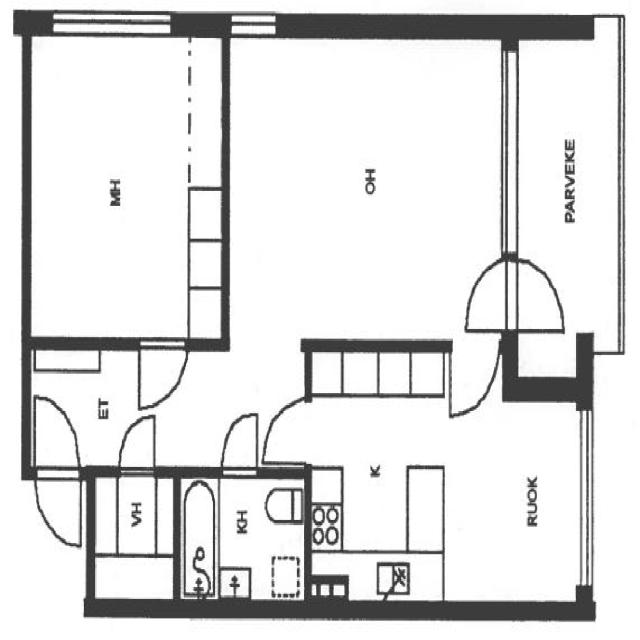door: (34, 468, 85, 552), (136, 338, 190, 415), (449, 341, 499, 424), (31, 395, 80, 475), (464, 254, 509, 328), (115, 413, 158, 473), (219, 410, 259, 474)
window: (572, 405, 599, 593), (50, 9, 174, 41), (226, 6, 283, 42)
zone: (228, 36, 502, 354), (311, 352, 582, 603), (28, 31, 225, 351), (516, 40, 620, 352), (181, 470, 309, 602), (26, 346, 160, 468), (93, 469, 179, 603), (514, 259, 564, 333), (310, 469, 342, 554)
